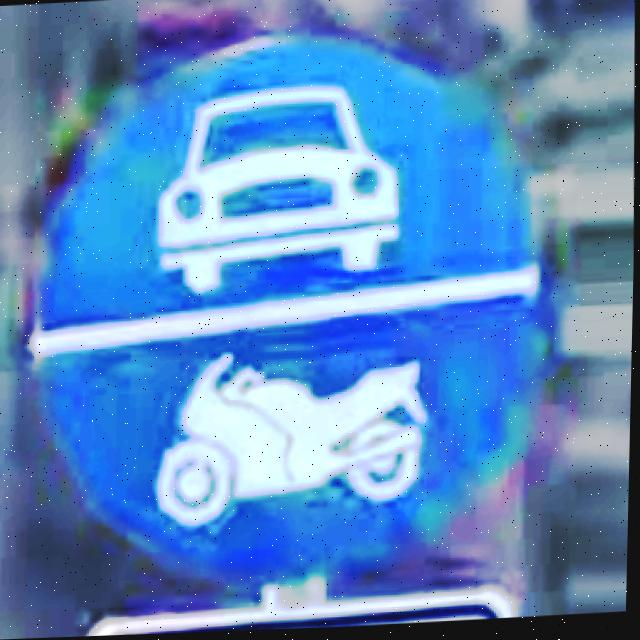carmotorcycle: (38, 39, 533, 578)
